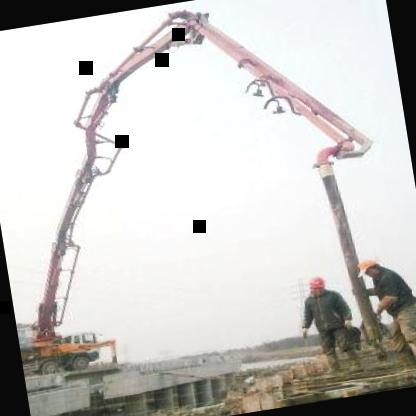helmet: (354, 255, 382, 283), (305, 274, 331, 298)
